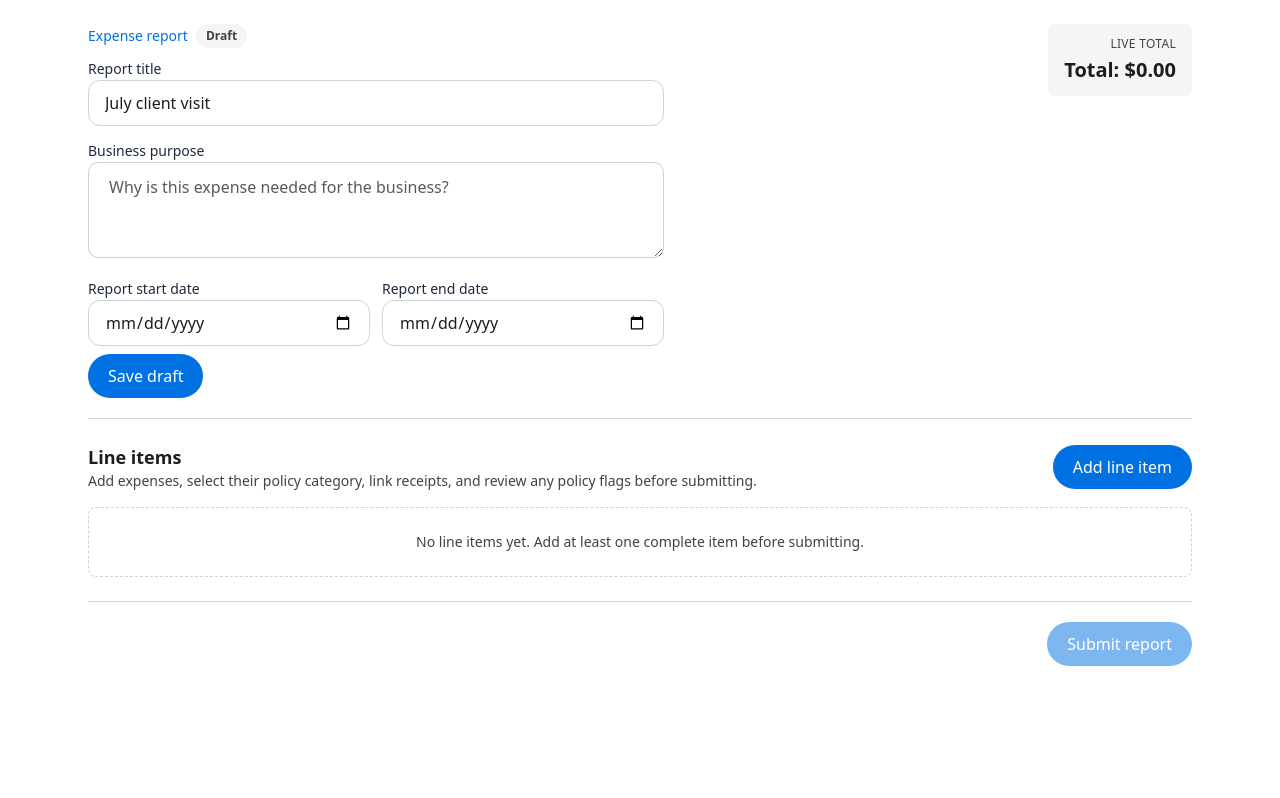
ReportEditor › adds an item and recomputes the live total
Click the button "Add line item". click: [1122, 467]
box: [1053,445,1192,489]
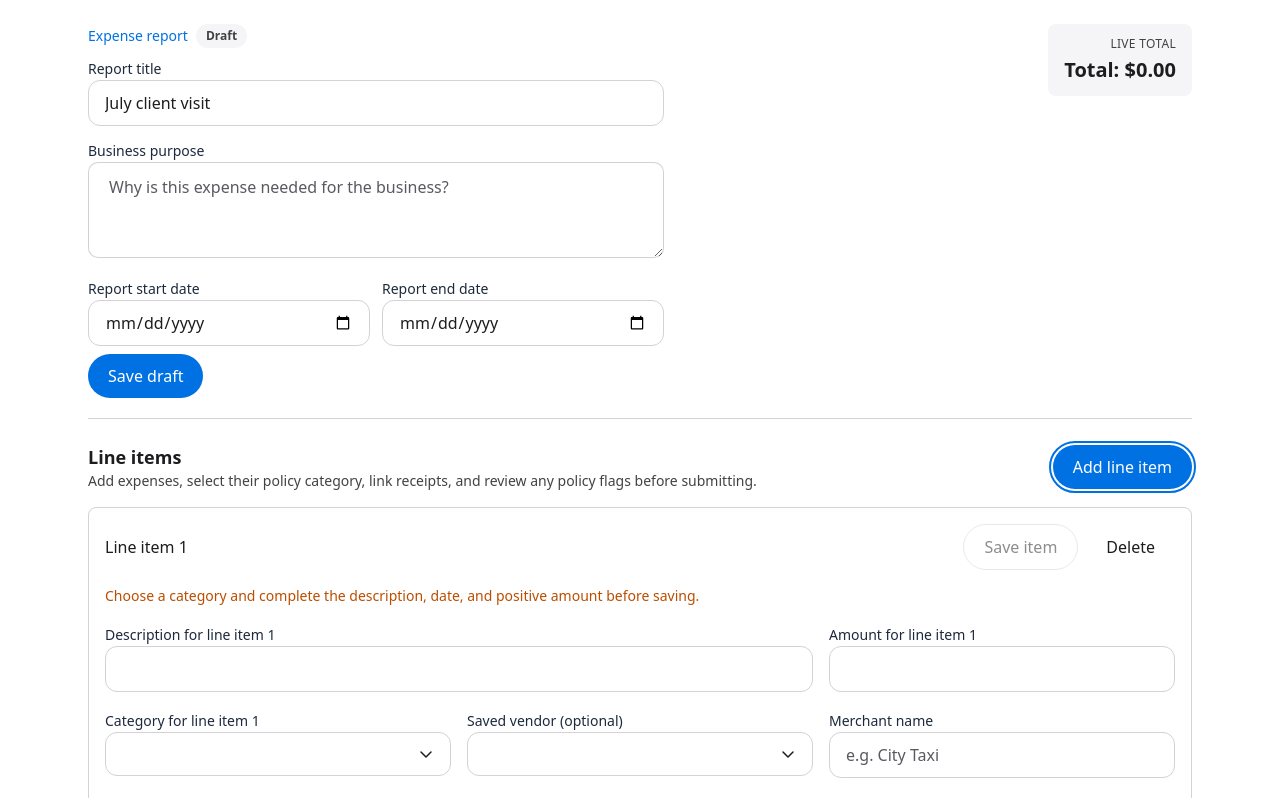
Type "Airport transfer" into the field labelled "Description for line item 1". click: [459, 669]
box: [105,646,813,692]
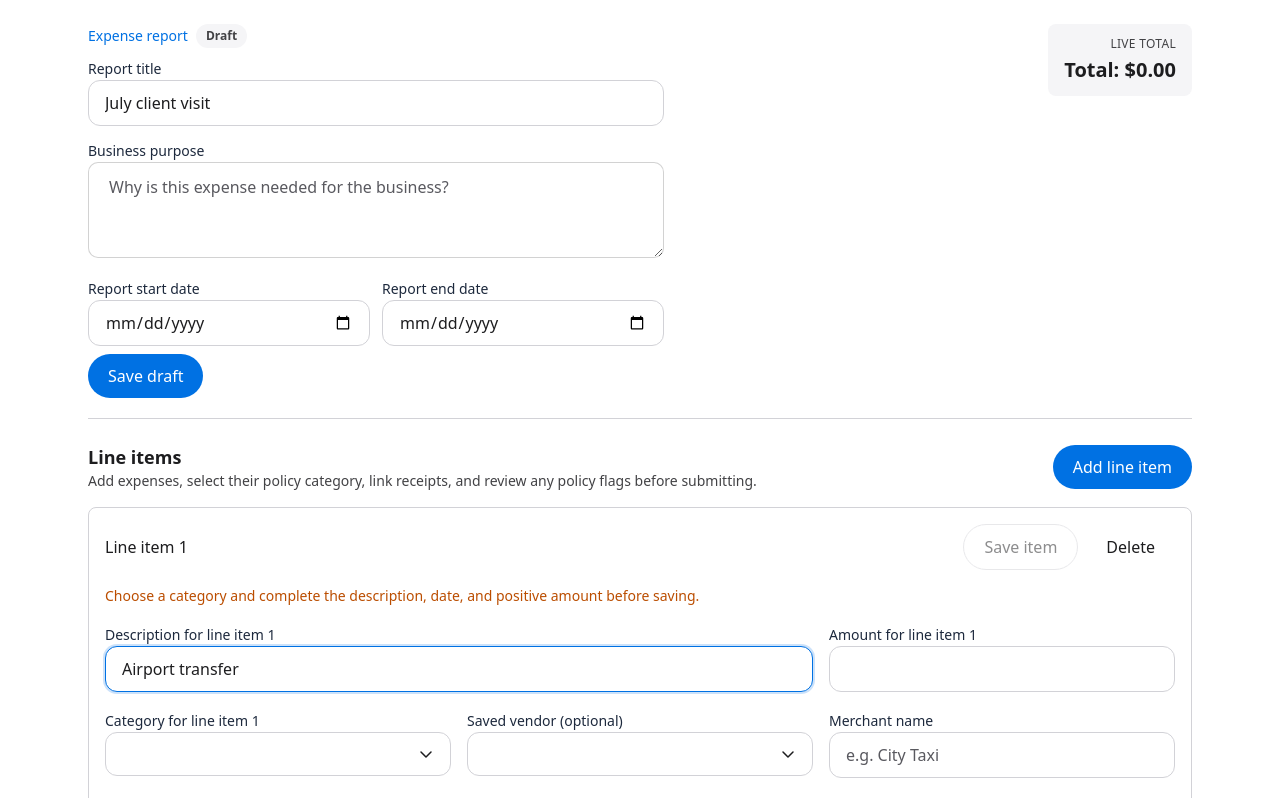
Type "42.50" into the number field labelled "Amount for line item 1". click: [1002, 669]
box: [829,646,1175,692]
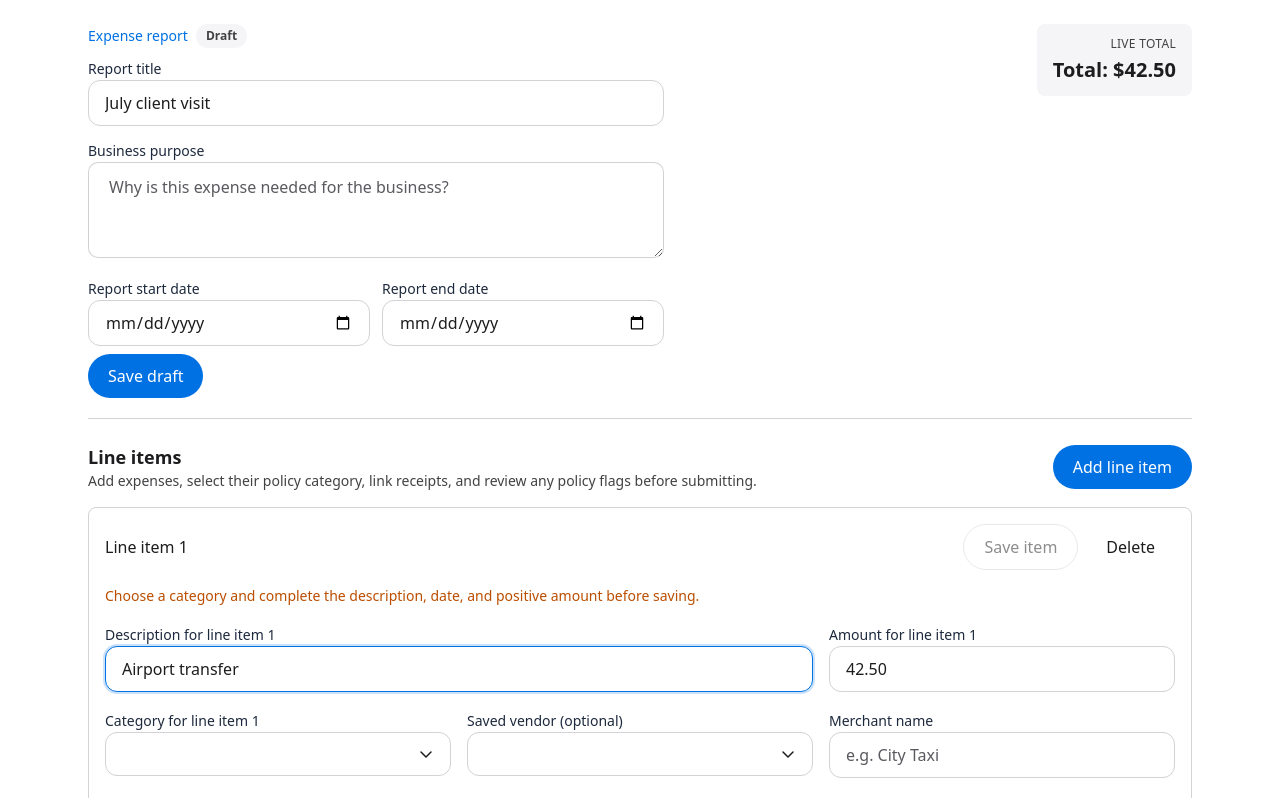
Now the text "Total: $42.50" is shown, box [1053,56,1176,84]
